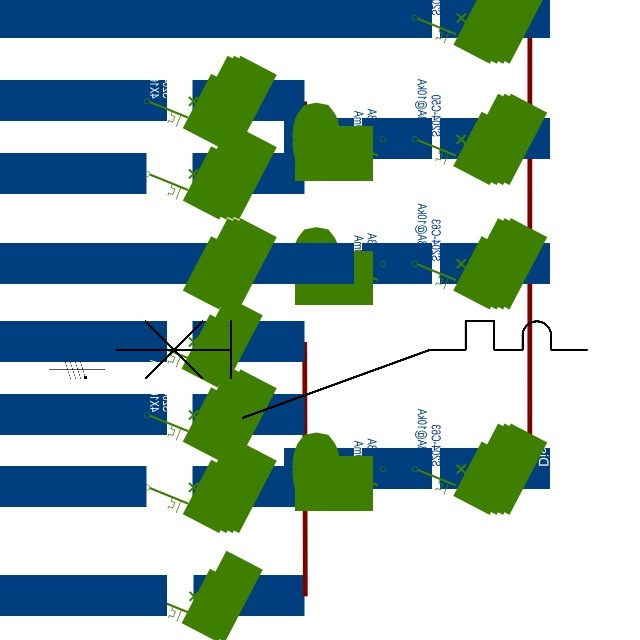interruptor_termomagnetico: (104, 309, 598, 430)
